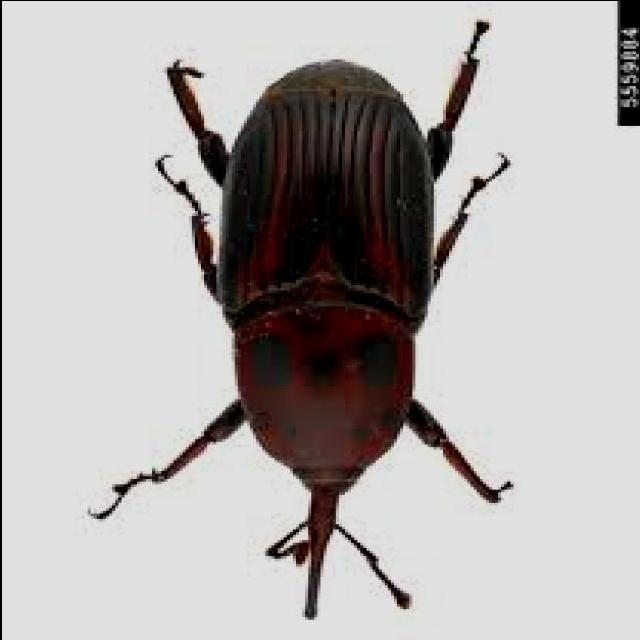Red-palm-weevil: (173, 13, 466, 620)
